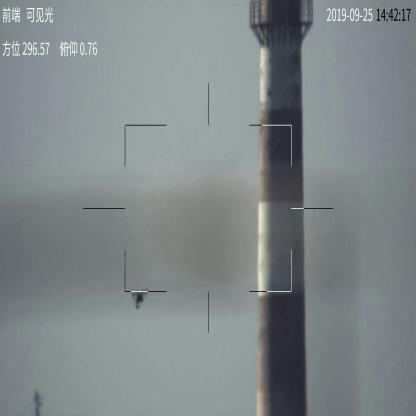uav: (129, 286, 151, 308)
